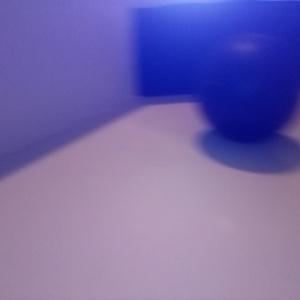dead_ball: (196, 34, 300, 143)
